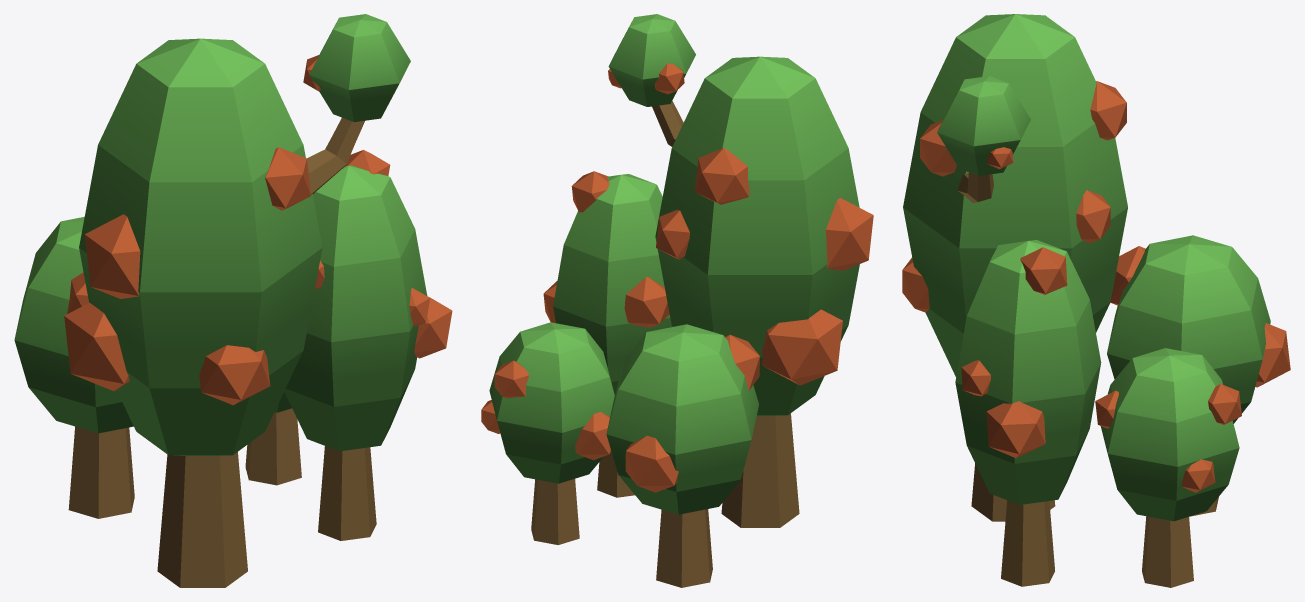
The model's file is resource_tree1.fbx.
The picture shows the model from 3 angles, left to right: view 1: azimuth 30°, elevation 25°; view 2: azimuth 150°, elevation 25°; view 3: azimuth 270°, elevation 25°; orthographic projection. The views are drawn at different scales.
Parts seen in each view (by area): view 1: resource_tree1; view 2: resource_tree1; view 3: resource_tree1.
Boxes of the visible parts, <box> form: resource_tree1: <box>14,14,452,587</box>; resource_tree1: <box>481,14,873,587</box>; resource_tree1: <box>902,14,1290,587</box>.
Bounding box in the file's own units: 164 × 228 × 163.
